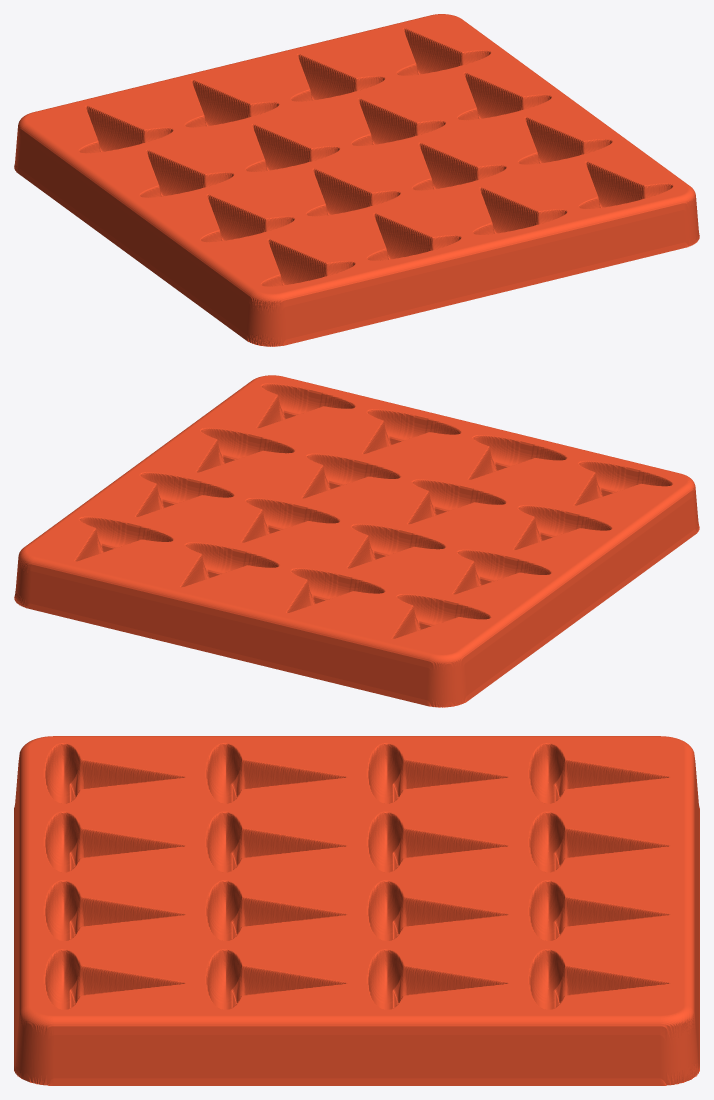
File: mold.glb
3 renders of one model, top to bottom at view 1: azimuth 30°, elevation 25°; view 2: azimuth 150°, elevation 25°; view 3: azimuth 270°, elevation 25°, orthographic. The views are drawn at different scales.
Parts seen in each view (by area): view 1: geometry_0; view 2: geometry_0; view 3: geometry_0.
Boxes of the visible parts, box(x1,y1,x2,y2) form: geometry_0: box(14, 14, 699, 346); geometry_0: box(14, 375, 699, 707); geometry_0: box(14, 736, 699, 1085).
Size of the model in its own units: 0.1569 by 0.0159 by 0.1559.
